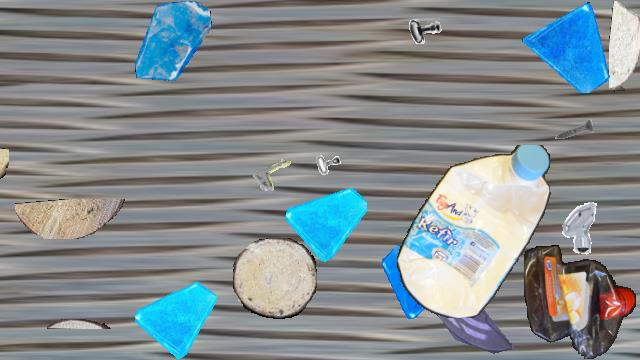glass: (522, 1, 614, 93), (429, 275, 513, 359), (135, 277, 217, 359), (285, 180, 367, 262), (133, 1, 213, 81), (382, 243, 458, 319)
metal: (249, 141, 309, 201), (548, 197, 606, 255), (303, 151, 353, 201), (553, 108, 595, 150), (405, 9, 445, 49)
plastic: (396, 145, 552, 317), (524, 245, 636, 359)
wood: (233, 238, 317, 318), (15, 199, 127, 239), (609, 1, 640, 91), (47, 319, 111, 329), (0, 142, 8, 208)
